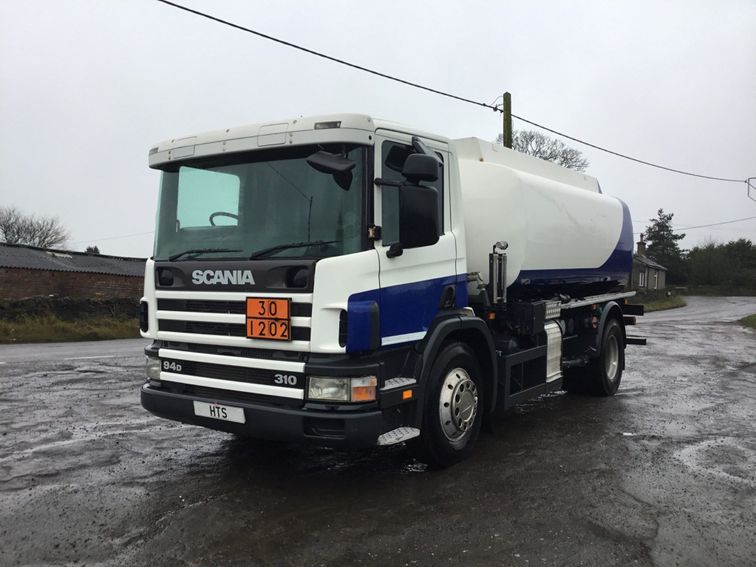Semi: (139, 112, 646, 466)
